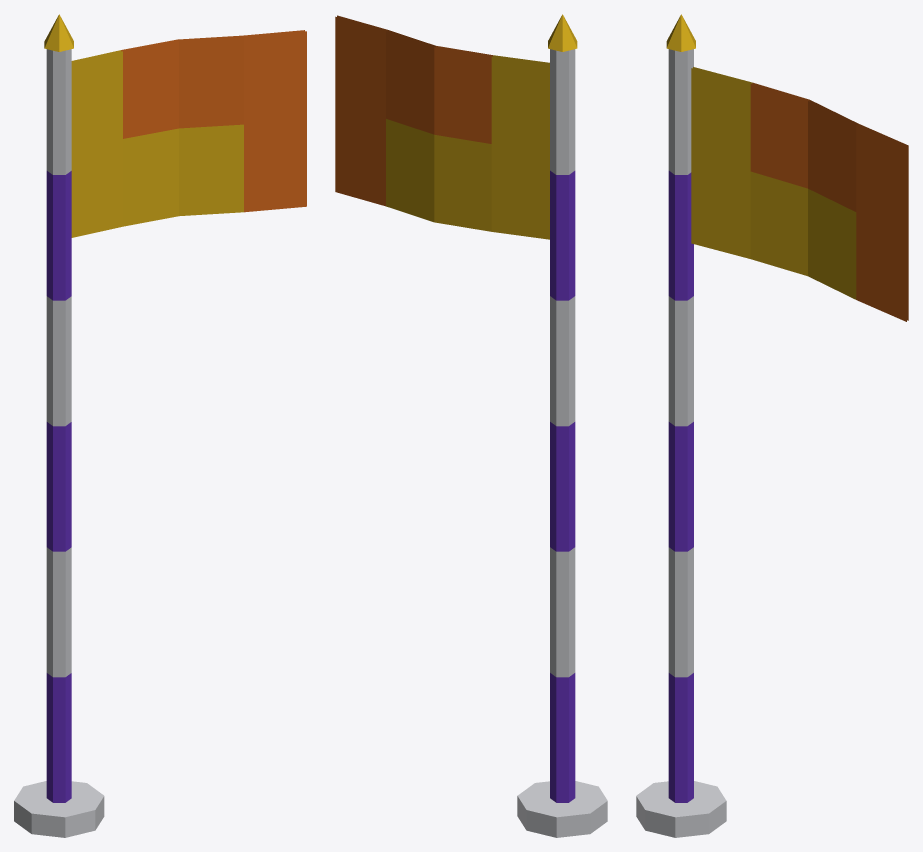
File: corner-flag.glb
The picture shows the model from 3 angles, left to right: view 1: azimuth 30°, elevation 25°; view 2: azimuth 150°, elevation 25°; view 3: azimuth 330°, elevation 25°; orthographic projection.
Parts seen in each view (by area): view 1: corner-flag; view 2: corner-flag; view 3: corner-flag.
Part boxes in pixels (<box>): corner-flag: <box>14,14,306,837</box>; corner-flag: <box>335,14,607,837</box>; corner-flag: <box>636,14,908,837</box>.
Bounding box in the file's own units: 0.5539 × 1.56 × 0.1478.
